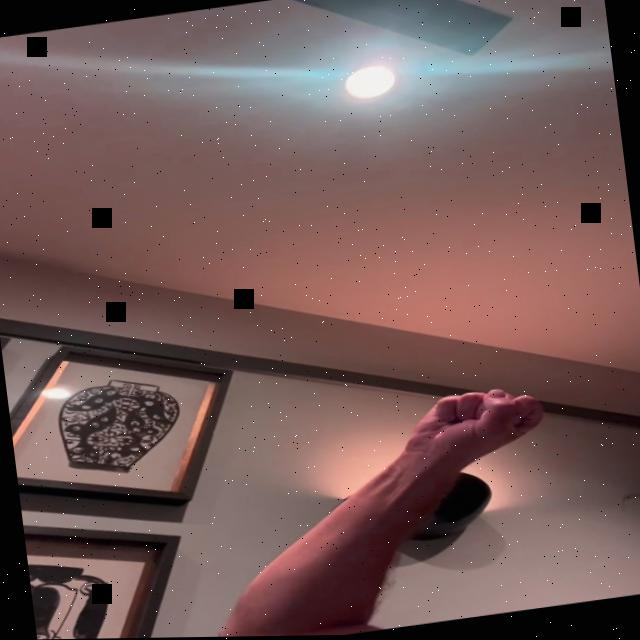Rock: (396, 381, 550, 471)
